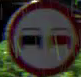No overtake: (5, 1, 79, 74)
